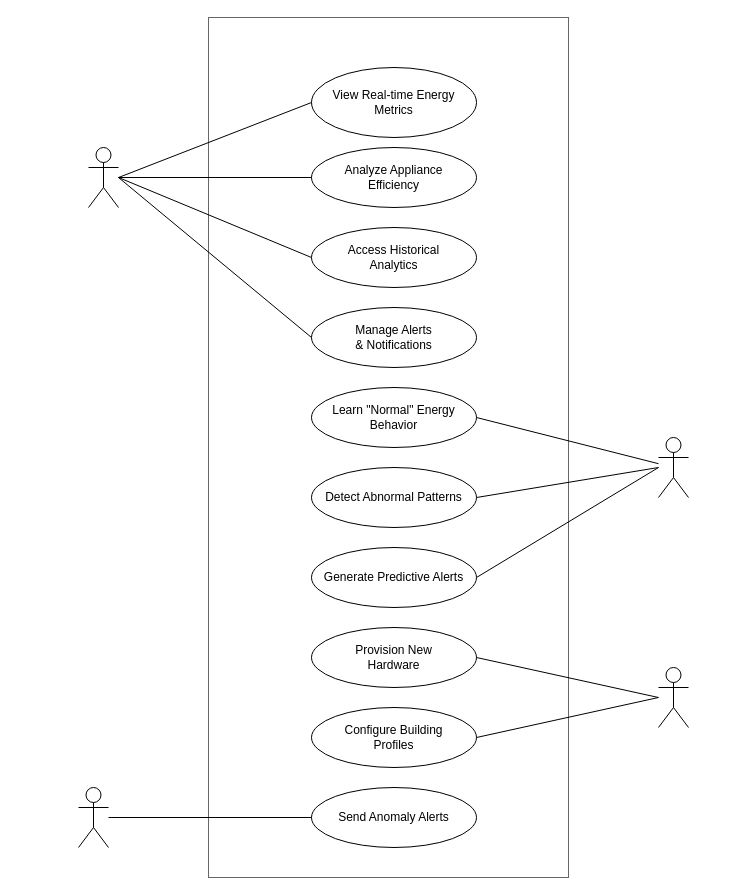
The diagram is 745 pixels wide and 895 high, and some of its shapes have lost their labels. The centre of each missing label's shape, as x and y in pixels:
Firebase/Notification Service: (93,817)
Homeowner: (103,177)
SmartGuard System: (673,467)
Technician: (673,697)
